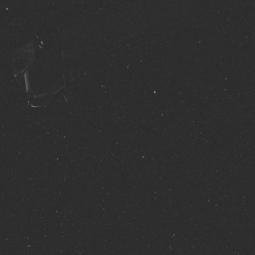earth_observation_sat_1: (8, 21, 84, 111)
